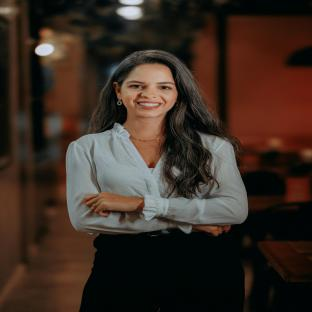Human: (66, 50, 248, 312)
